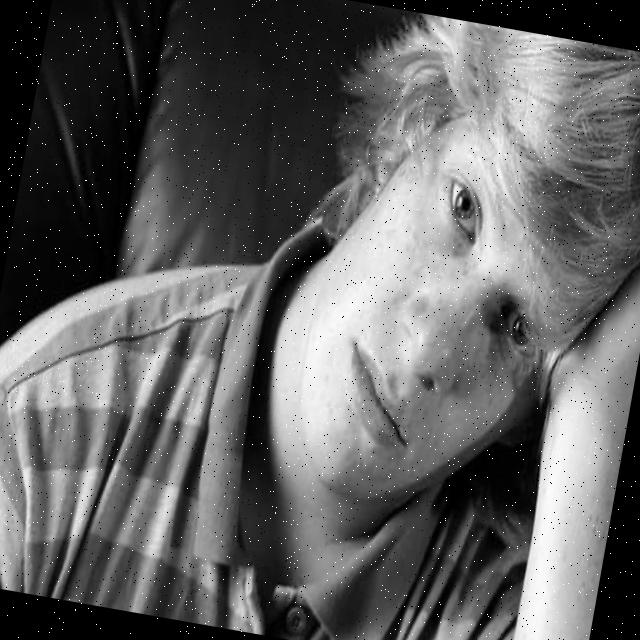Sadness: (279, 97, 586, 528)
